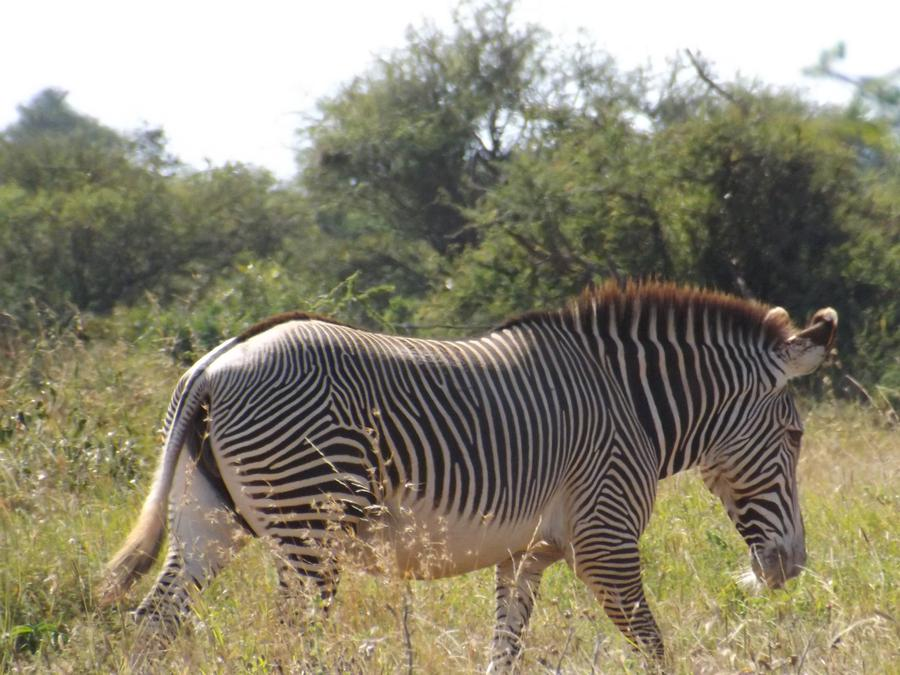zebra_grevys: (177, 306, 651, 555)
